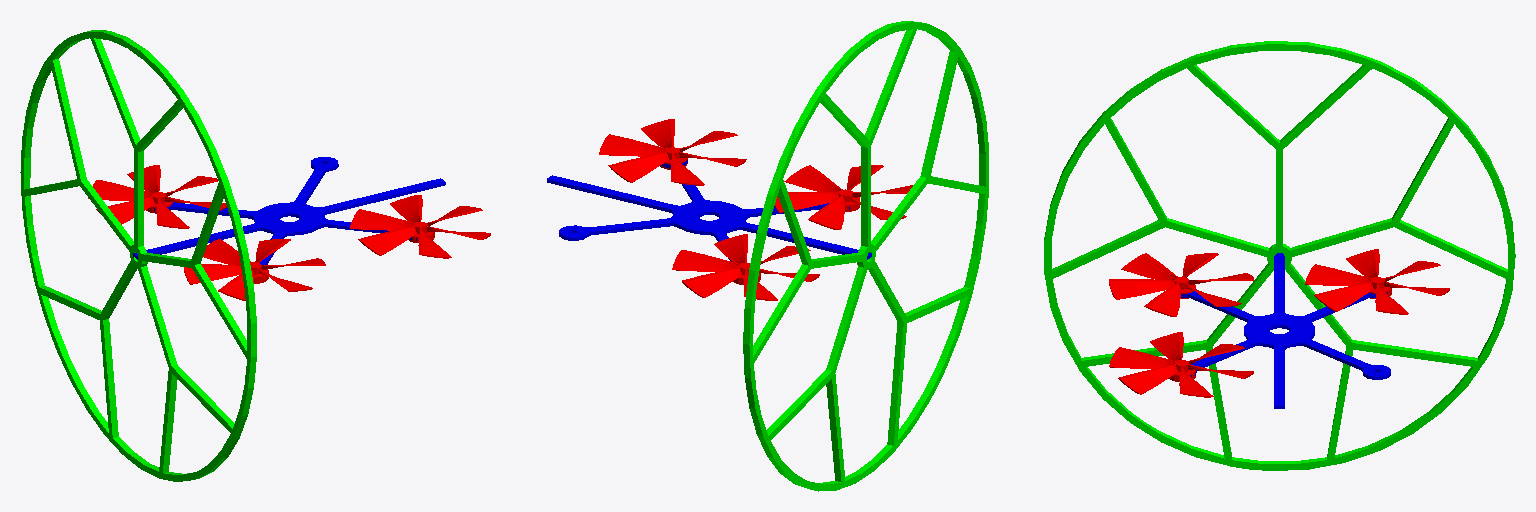
robot.urdf — WheeledDrone:
<?xml version="1.0" encoding="utf-8"?>
<!-- This URDF was automatically created by SolidWorks to URDF Exporter! Originally created by Stephen Brawner (brawner@gmail.com) 
     Commit Version: 1.6.0-4-g7f85cfe  Build Version: 1.6.7995.38578
     For more information, please see http://wiki.ros.org/sw_urdf_exporter -->
<robot
  name="WheeledDrone">
  <link
    name="base_link">
    <inertial>
      <origin
        xyz="1.64400379731868E-17 -1.26084744887352E-17 1.14301458280935E-17"
        rpy="0 0 0" />
      <mass
        value="0.126391295574995" />
      <inertia
        ixx="0.000698367835987621"
        ixy="8.48183245293616E-22"
        ixz="-1.34811052800537E-19"
        iyy="0.00216960444370969"
        iyz="5.0047860182116E-22"
        izz="0.0014717631432146" />
    </inertial>
    <visual>
      <origin
        xyz="0 0 0"
        rpy="0 0 0" />
      <geometry>
        <mesh
          filename="../meshes/base_link.STL" />
      </geometry>
      <material
        name="">
        <color
          rgba="0 0 1 1" />
      </material>
    </visual>
    <collision>
      <origin
        xyz="0 0 0"
        rpy="0 0 0" />
      <geometry>
        <mesh
          filename="../meshes/base_link.STL" />
      </geometry>
    </collision>
  </link>
  <link
    name="left_wheel_link">
    <inertial>
      <origin
        xyz="-5.157E-17 1.6396E-16 -0.005"
        rpy="0 0 0" />
      <mass
        value="0.45579" />
      <inertia
        ixx="0.015748"
        ixy="2.0835E-17"
        ixz="1.8875E-19"
        iyy="0.015748"
        iyz="-2.0652E-21"
        izz="0.031488" />
    </inertial>
    <visual>
      <origin
        xyz="0 0 0"
        rpy="0 0 0" />
      <geometry>
        <mesh
          filename="../meshes/left_wheel_link.STL" />
      </geometry>
      <material
        name="">
        <color
          rgba="0 1 0 1" />
      </material>
    </visual>
    <collision>
      <origin
        xyz="0 0 0"
        rpy="0 0 0" />
      <geometry>
        <mesh
          filename="../meshes/left_wheel_link.STL" />
      </geometry>
    </collision>
  </link>
  <joint
    name="left_wheel_joint"
    type="continuous">
    <origin
      xyz="-0.24 0 0"
      rpy="1.5708 0 1.5708" />
    <parent
      link="base_link" />
    <child
      link="left_wheel_link" />
    <axis
      xyz="0 0 1" />
    <limit
      lower="-3.14"
      upper="3.14"
      effort="10"
      velocity="100" />
  </joint>
  <link
    name="right_wheel_link">
    <inertial>
      <origin
        xyz="-4.913E-17 2.6257E-16 -0.005"
        rpy="0 0 0" />
      <mass
        value="0.45579" />
      <inertia
        ixx="0.015748"
        ixy="1.5999E-17"
        ixz="1.8875E-19"
        iyy="0.015748"
        iyz="-2.0652E-21"
        izz="0.031488" />
    </inertial>
    <visual>
      <origin
        xyz="0 0 0"
        rpy="0 0 0" />
      <geometry>
        <mesh
          filename="../meshes/right_wheel_link.STL" />
      </geometry>
      <material
        name="">
        <color
          rgba="0 1 0 1" />
      </material>
    </visual>
    <collision>
      <origin
        xyz="0 0 0"
        rpy="0 0 0" />
      <geometry>
        <mesh
          filename="../meshes/right_wheel_link.STL" />
      </geometry>
    </collision>
  </link>
  <joint
    name="right_wheel_joint"
    type="continuous">
    <origin
      xyz="0.25 0 0"
      rpy="1.5708 0 1.5708" />
    <parent
      link="base_link" />
    <child
      link="right_wheel_link" />
    <axis
      xyz="0 0 1" />
    <limit
      lower="-3.14"
      upper="3.14"
      effort="10"
      velocity="100" />
  </joint>
  <link
    name="propeller_front_left_link">
    <inertial>
      <origin
        xyz="0.13435 -0.13435 -0.014657"
        rpy="0 0 0" />
      <mass
        value="0.044196" />
      <inertia
        ixx="7.0715E-05"
        ixy="-1.3141E-13"
        ixz="-3.5232E-19"
        iyy="7.0715E-05"
        iyz="1.8554E-19"
        izz="0.0001389" />
    </inertial>
    <visual>
      <origin
        xyz="0 0 0"
        rpy="0 0 0" />
      <geometry>
        <mesh
          filename="../meshes/propeller_front_left_link.stl" />
      </geometry>
      <material
        name="">
        <color
          rgba="1 0 0 1" />
      </material>
    </visual>
    <collision>
      <origin
        xyz="0 0 0"
        rpy="0 0 0" />
      <geometry>
        <mesh
          filename="../meshes/propeller_front_left_link.stl" />
      </geometry>
    </collision>
  </link>
  <joint
    name="propeller_front_left_joint"
    type="continuous">
    <origin
      xyz="0.135 -0.135 0.009"
      rpy="3.1416 0 1.5708" />
    <parent
      link="base_link" />
    <child
      link="propeller_front_left_link" />
    <axis
      xyz="0 0 1" />
    <limit
      lower="-3.14"
      upper="3.14"
      effort="10"
      velocity="100" />
  </joint>
  <link
    name="propeller_front_right_link">
    <inertial>
      <origin
        xyz="0.13435 0.13435 0.012157"
        rpy="0 0 0" />
      <mass
        value="0.044196" />
      <inertia
        ixx="7.0715E-05"
        ixy="1.3141E-13"
        ixz="3.7002E-19"
        iyy="7.0715E-05"
        iyz="1.9535E-19"
        izz="0.0001389" />
    </inertial>
    <visual>
      <origin
        xyz="0 0 0"
        rpy="0 0 0" />
      <geometry>
        <mesh
          filename="../meshes/propeller_front_right_link.stl" />
      </geometry>
      <material
        name="">
        <color
          rgba="1 0 0 1" />
      </material>
    </visual>
    <collision>
      <origin
        xyz="0 0 0"
        rpy="0 0 0" />
      <geometry>
        <mesh
          filename="../meshes/propeller_front_right_link.stl" />
      </geometry>
    </collision>
  </link>
  <joint
    name="propeller_front_right_joint"
    type="continuous">
    <origin
      xyz="-0.135 -0.135 0.009"
      rpy="0 0 0" />
    <parent
      link="base_link" />
    <child
      link="propeller_front_right_link" />
    <axis
      xyz="0 0 1" />
    <limit
      lower="-3.14"
      upper="3.14"
      effort="10"
      velocity="100" />
  </joint>
  <link
    name="propeller_back_left_link">
    <inertial>
      <origin
        xyz="0 0 0"
        rpy="0 0 0" />
      <mass
        value="0.044196" />
      <inertia
        ixx="7.0715E-05"
        ixy="1.3141E-13"
        ixz="3.3172E-19"
        iyy="7.0715E-05"
        iyz="2.0543E-19"
        izz="0.0001389" />
    </inertial>
    <visual>
      <origin
        xyz="0 0 0"
        rpy="0 0 0" />
      <geometry>
        <mesh
          filename="../meshes/propeller_back_left_link.stl" />
      </geometry>
      <material
        name="">
        <color
          rgba="1 0 0 1" />
      </material>
    </visual>
    <collision>
      <origin
        xyz="0 0 0"
        rpy="0 0 0" />
      <geometry>
        <mesh
          filename="../meshes/propeller_back_left_link.stl" />
      </geometry>
    </collision>
  </link>
  <joint
    name="propeller_back_left_joint"
    type="continuous">
    <origin
      xyz="0.135 0.135 0.009"
      rpy="0 0 3.1416" />
    <parent
      link="base_link" />
    <child
      link="propeller_back_left_link" />
    <axis
      xyz="0 0 1" />
    <limit
      lower="-3.14"
      upper="3.14"
      effort="10"
      velocity="100" />
  </joint>
  <link
    name="propeller_back_right_link">
    <inertial>
      <origin
        xyz="0 0 0"
        rpy="0 0 0" />
      <mass
        value="0.044196" />
      <inertia
        ixx="7.0715E-05"
        ixy="-1.3141E-13"
        ixz="-3.1263E-19"
        iyy="7.0715E-05"
        iyz="2.3326E-19"
        izz="0.0001389" />
    </inertial>
    <visual>
      <origin
        xyz="0 0 0"
        rpy="0 0 0" />
      <geometry>
        <mesh
          filename="../meshes/propeller_back_right_link.stl" />
      </geometry>
      <material
        name="">
        <color
          rgba="1 0 0 1" />
      </material>
    </visual>
    <collision>
      <origin
        xyz="0 0 0"
        rpy="0 0 0" />
      <geometry>
        <mesh
          filename="../meshes/propeller_back_right_link.stl" />
      </geometry>
    </collision>
  </link>
  <joint
    name="propeller_back_right_joint"
    type="continuous">
    <origin
      xyz="-0.135 0.135 0.009"
      rpy="3.1416 0 -1.5708" />
    <parent
      link="base_link" />
    <child
      link="propeller_back_right_link" />
    <axis
      xyz="0 0 1" />
    <limit
      lower="-3.14"
      upper="3.14"
      effort="10"
      velocity="100" />
  </joint>
</robot>

--- What the picture shows (computed from the rendered views, not written in the file) ---
The picture shows the robot from 3 angles, left to right: view 1: azimuth 30°, elevation 25°; view 2: azimuth 150°, elevation 25°; view 3: azimuth 270°, elevation 25°; orthographic projection.
Robot: WheeledDrone — 7 links, 6 joints (6 continuous); root link base_link; default pose: all joints at 0.
Visible links, largest first — view 1: left_wheel_link, base_link, propeller_front_left_link, propeller_front_right_link, propeller_back_right_link; view 2: left_wheel_link, base_link, propeller_front_left_link, propeller_back_right_link, propeller_front_right_link; view 3: left_wheel_link, base_link, propeller_front_left_link, propeller_back_right_link, propeller_front_right_link.
Link boxes in pixels (left/top/right/bottom): left_wheel_link: left=20, top=30, right=256, bottom=481; base_link: left=133, top=157, right=445, bottom=264; propeller_front_left_link: left=350, top=195, right=490, bottom=258; propeller_front_right_link: left=184, top=239, right=325, bottom=300; propeller_back_right_link: left=88, top=165, right=226, bottom=228; left_wheel_link: left=743, top=21, right=988, bottom=491; base_link: left=547, top=160, right=871, bottom=261; propeller_front_left_link: left=599, top=119, right=746, bottom=185; propeller_back_right_link: left=672, top=234, right=819, bottom=300; propeller_front_right_link: left=775, top=165, right=912, bottom=229; left_wheel_link: left=1044, top=41, right=1515, bottom=470; base_link: left=1181, top=253, right=1390, bottom=408; propeller_front_left_link: left=1109, top=332, right=1253, bottom=397; propeller_back_right_link: left=1305, top=249, right=1449, bottom=314; propeller_front_right_link: left=1109, top=253, right=1253, bottom=316.
Size in the robot's own frame: 0.5 by 0.6489 by 0.6495 metres.
Meshes: 7 distinct files referenced, 5 mesh visuals loaded (5 binary STL); not drawn: 2 (reference not matched to a file when rendering).
